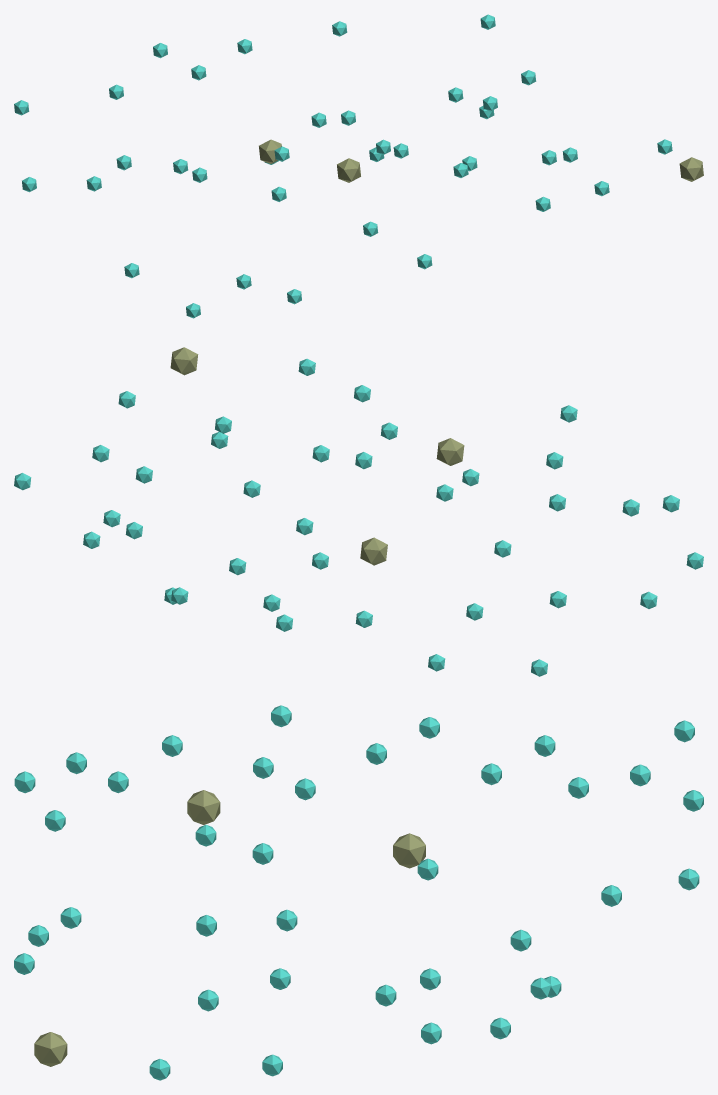
The model's file is mesh-lattice-low.glb.
The picture shows the model from 3 angles, top to bottom: view 1: azimuth 30°, elevation 25°; view 2: azimuth 150°, elevation 25°; view 3: azimuth 270°, elevation 25°; orthographic projection. The views are drawn at different scales.
Visible parts, largest first — view 1: lattice_nodes; view 2: lattice_nodes; view 3: lattice_nodes.
Boxes of the visible parts, x1,y1,x2,y2 form: lattice_nodes: (14,14,703,318); lattice_nodes: (14,347,703,676); lattice_nodes: (14,705,703,1080).
Bounding box in the file's own units: 3.11 × 0.572 × 2.56.
